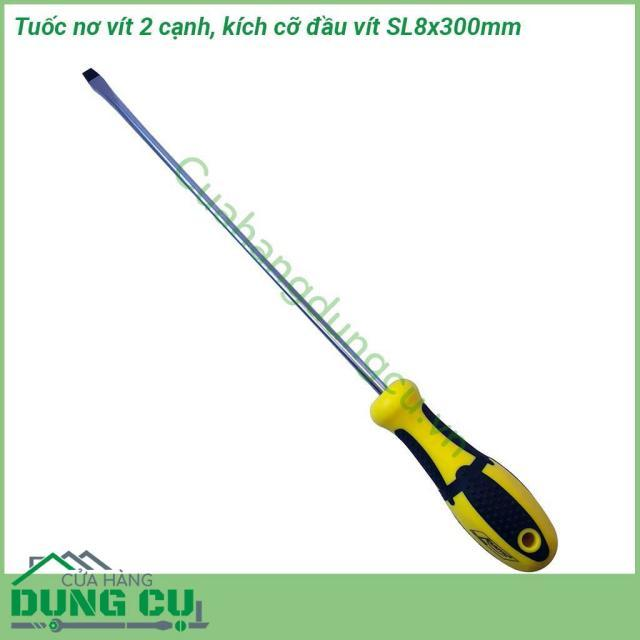screwdriver: (80, 64, 560, 574)
